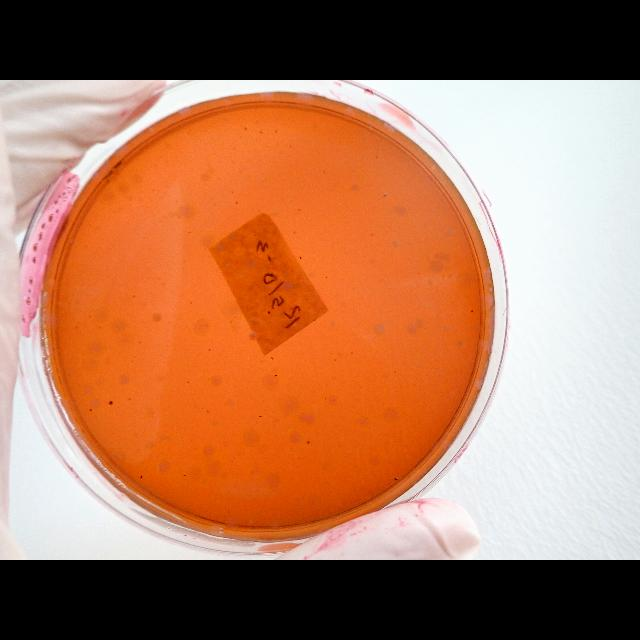colony: (139, 473, 145, 481), (108, 400, 114, 406), (258, 130, 264, 136), (382, 192, 388, 198), (393, 476, 399, 482), (206, 348, 212, 352), (88, 314, 92, 320), (235, 200, 239, 206), (244, 126, 248, 132), (292, 230, 298, 234), (258, 414, 264, 418), (306, 439, 310, 445), (470, 308, 474, 314), (88, 408, 92, 412), (270, 356, 274, 360), (274, 373, 278, 377), (74, 325, 78, 329), (274, 130, 278, 134), (288, 144, 292, 148), (297, 208, 301, 212), (298, 256, 302, 260), (325, 275, 329, 279), (351, 352, 354, 354)
